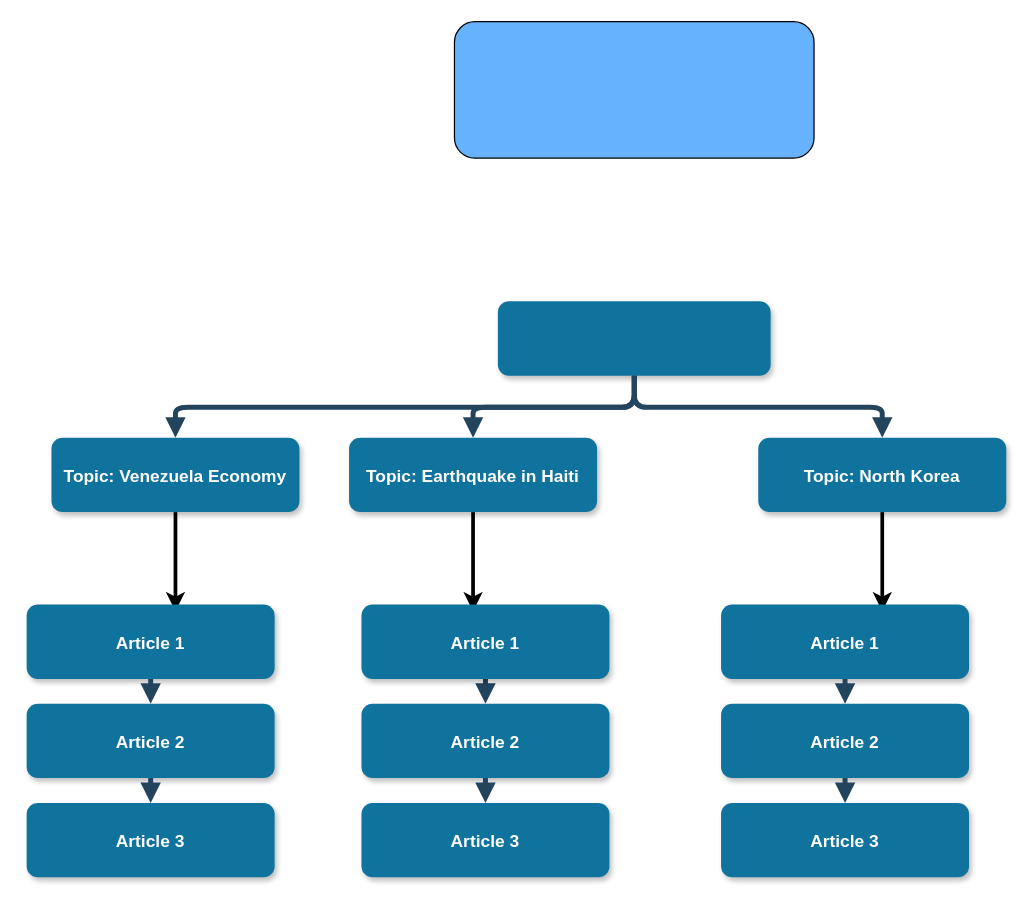
The diagram is 1034 pixels wide and 908 high, and some of its shapes have lost their labels. The centre of each missing label's shape, as x and y in pixels:
"News Tracker" belongs at pixel 633 89.
"User" belongs at pixel 634 340.
